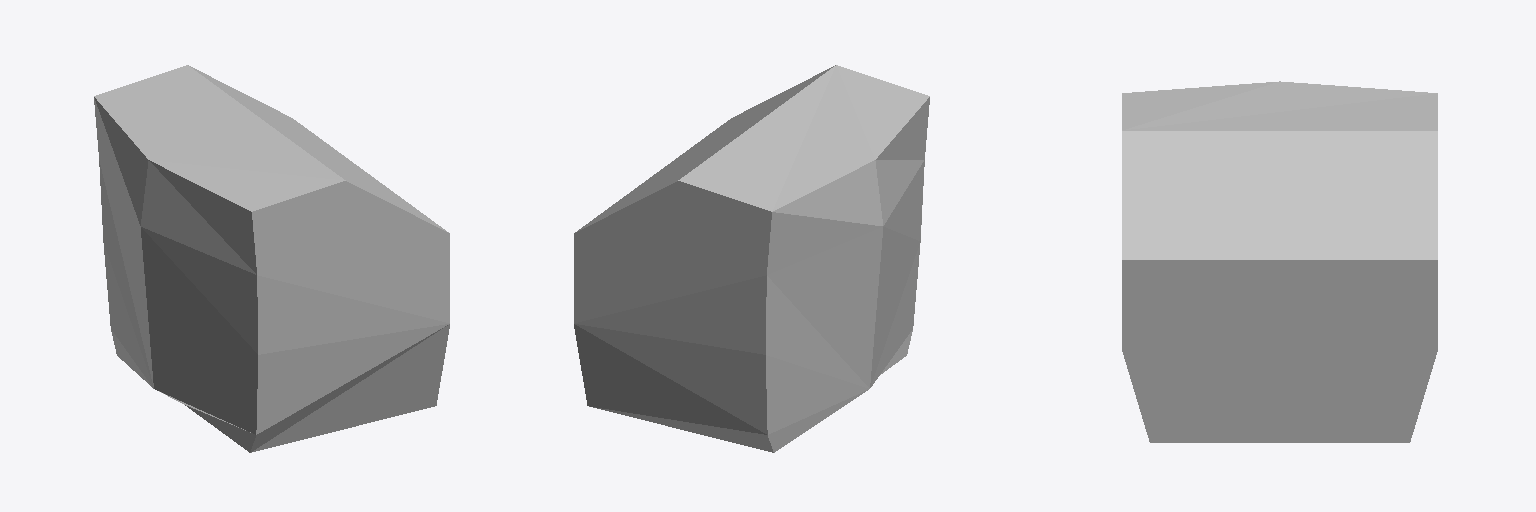
The model's file is wrist_roll_light_collision.obj.
3 renders of one model, left to right at view 1: azimuth 30°, elevation 25°; view 2: azimuth 150°, elevation 25°; view 3: azimuth 270°, elevation 25°, orthographic.
Size of the model in its own units: 0.086 by 0.093 by 0.102.